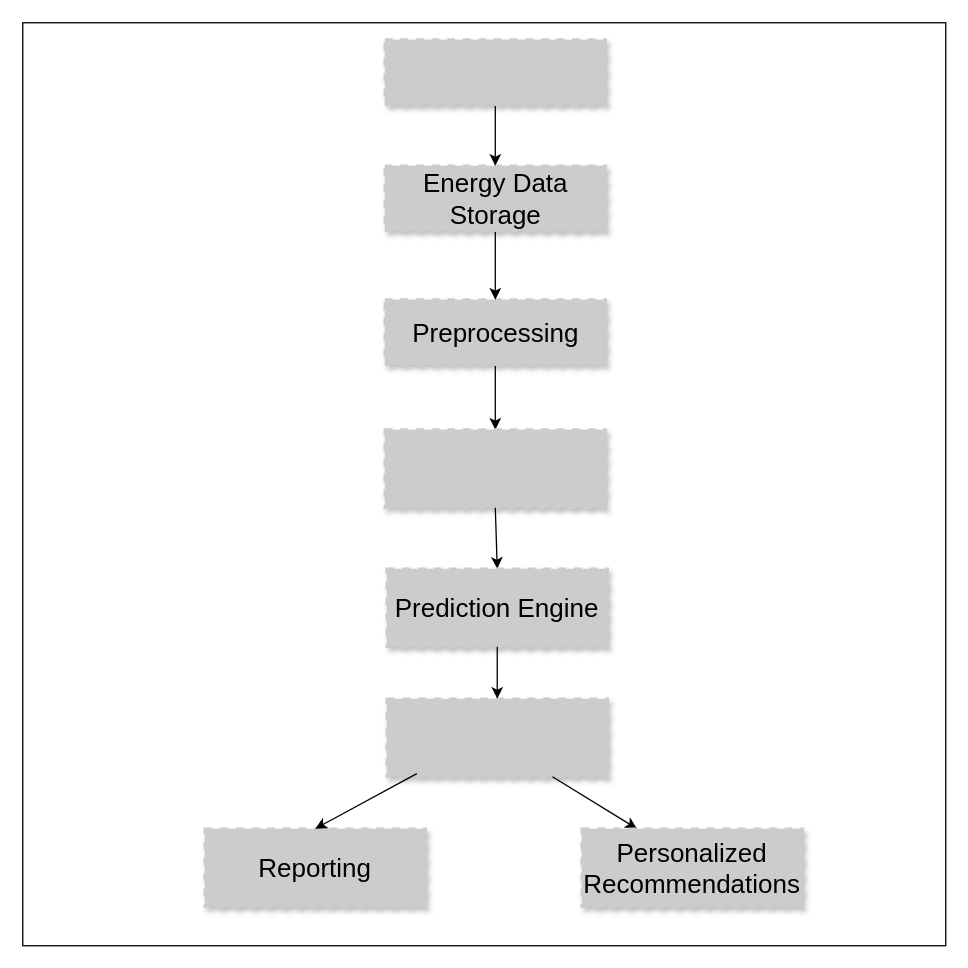
Some shapes in this 968 by 968 pixel diagram are drawn without their labels. Each missing label, with the centre of its shape:
Energy Data Acquisition: point 496,73
Scenerio Analysis: point 496,469
Visualization: point 498,739
